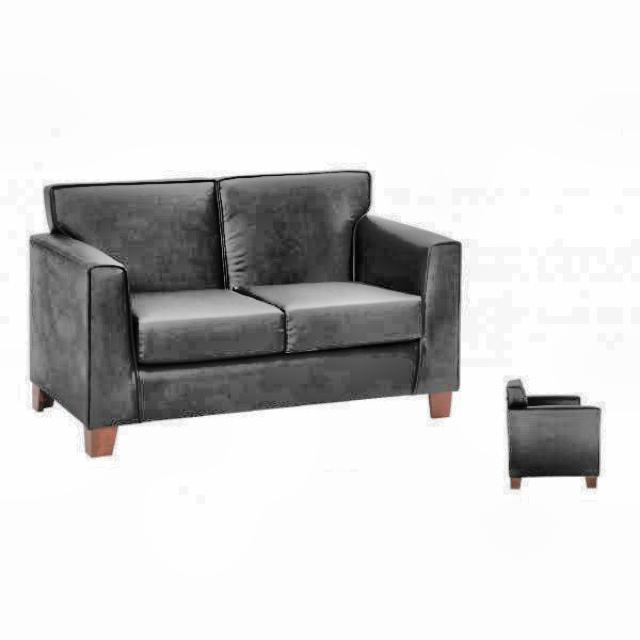sofa: (28, 168, 462, 458)
